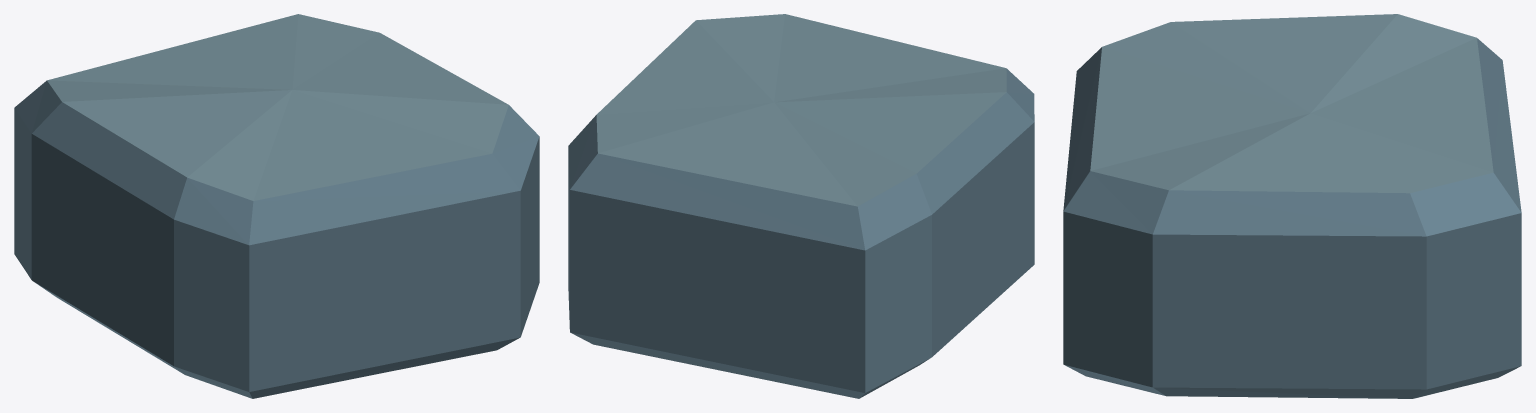
Rendered from rock3.glb.
3 views of the same model, side by side, from view 1: azimuth 30°, elevation 25°; view 2: azimuth 150°, elevation 25°; view 3: azimuth 270°, elevation 25° (orthographic). The views are drawn at different scales.
Visible parts, largest first — view 1: rock3; view 2: rock3; view 3: rock3.
Part boxes in pixels (bbox=[...]): rock3: bbox=[14, 14, 539, 398]; rock3: bbox=[568, 14, 1034, 398]; rock3: bbox=[1063, 14, 1521, 398].
Size of the model in its own units: 2.05 by 1.08 by 2.04.
